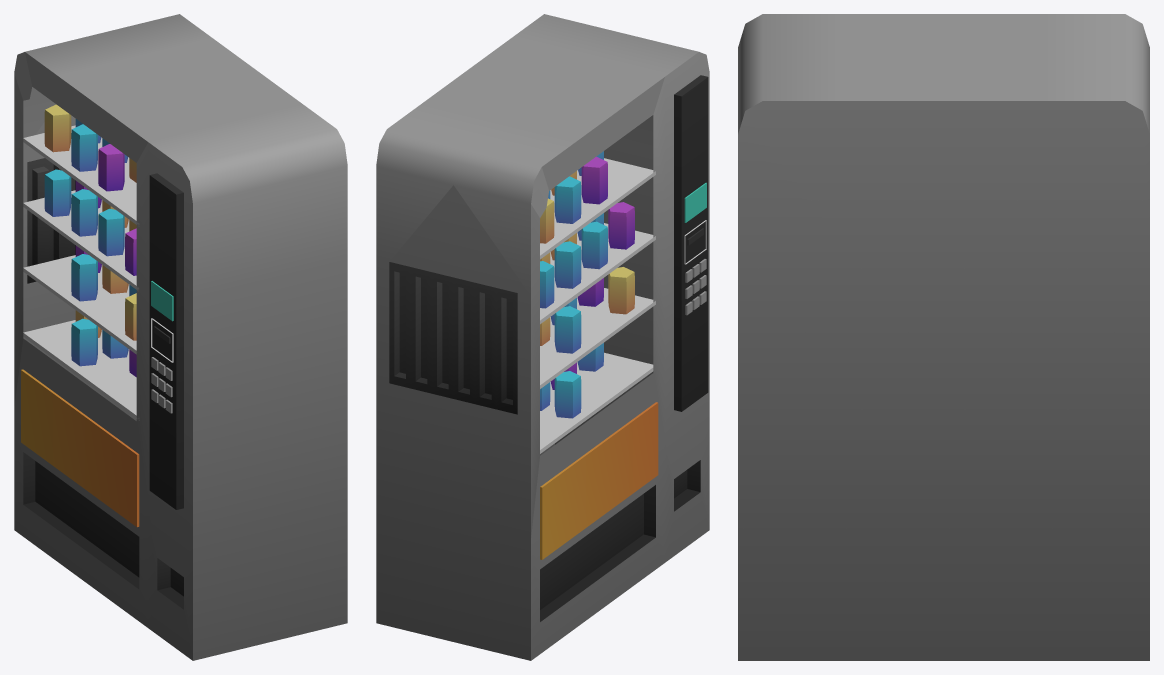
File: VendingMachine_2.fbx
3 views of the same model, side by side, from view 1: azimuth 30°, elevation 25°; view 2: azimuth 150°, elevation 25°; view 3: azimuth 270°, elevation 25° (orthographic). The views are drawn at different scales.
Parts seen in each view (by area): view 1: Cube.076; view 2: Cube.076; view 3: Cube.076.
Boxes of the visible parts, x1,y1,x2,y2 form: Cube.076: [14, 14, 347, 660]; Cube.076: [376, 14, 709, 660]; Cube.076: [738, 14, 1149, 660].
Size of the model in its own units: 106 by 300 by 200.
